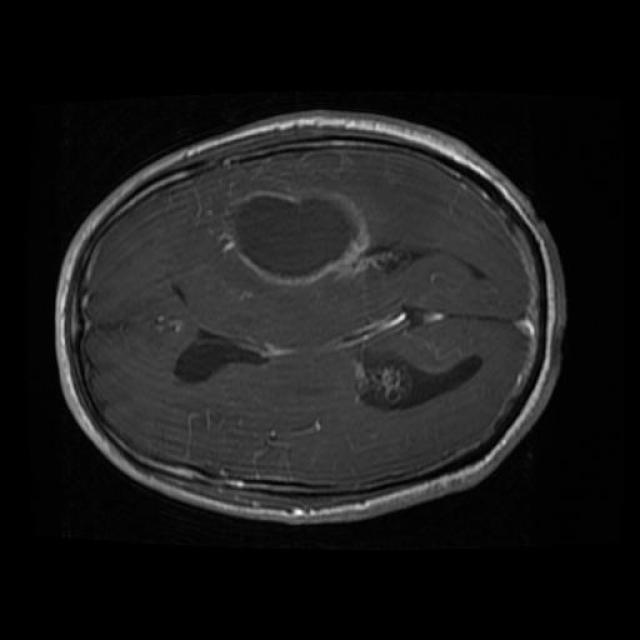Glioma: (228, 190, 370, 283)
